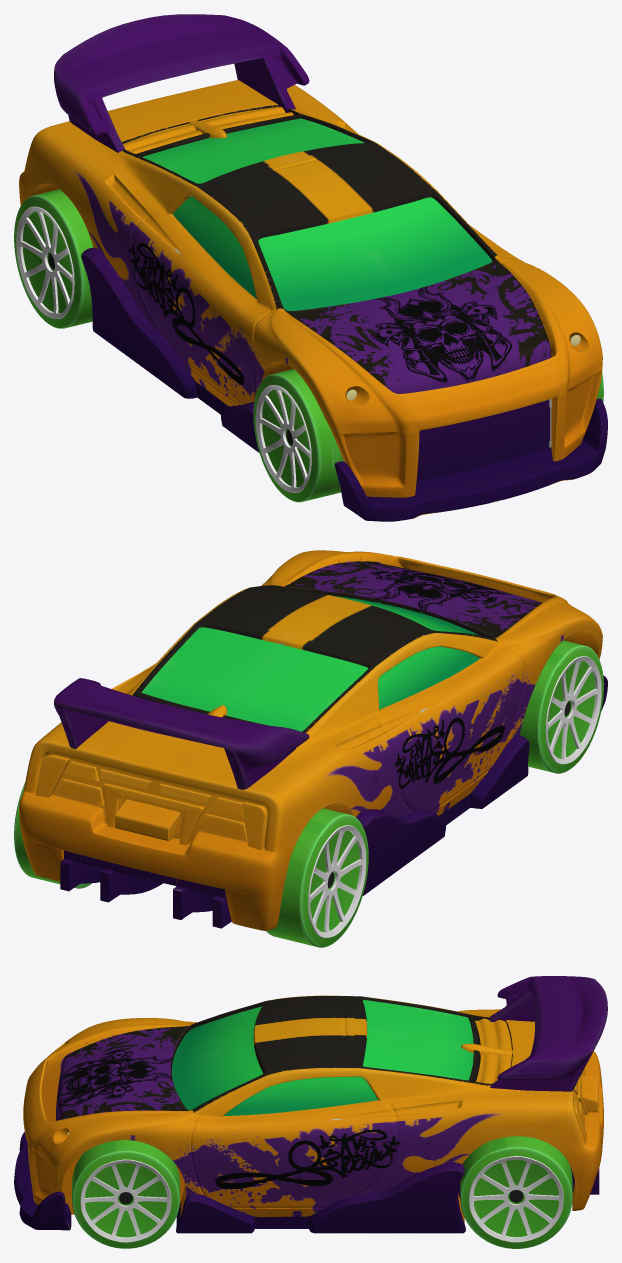
Rendered from MSTSuzuka.fbx.
The picture shows the model from 3 angles, top to bottom: view 1: azimuth 30°, elevation 25°; view 2: azimuth 150°, elevation 25°; view 3: azimuth 270°, elevation 25°; orthographic projection. The views are drawn at different scales.
Visible parts, largest first — view 1: MST Suzuka, Mesh_3673.rip.002, Mesh_3673.rip.003; view 2: MST Suzuka, Mesh_3673.rip.002, Mesh_3673.rip.003, Mesh_3673.rip.004; view 3: MST Suzuka, Mesh_3673.rip.004, Mesh_3673.rip.001.
Part boxes in pixels (x1=…): MST Suzuka: x1=19, y1=14, x2=607, y2=521; Mesh_3673.rip.002: x1=14, y1=189, x2=93, y2=328; Mesh_3673.rip.003: x1=253, y1=369, x2=343, y2=502; MST Suzuka: x1=19, y1=550, x2=607, y2=930; Mesh_3673.rip.002: x1=266, y1=808, x2=368, y2=947; Mesh_3673.rip.003: x1=519, y1=640, x2=603, y2=773; Mesh_3673.rip.004: x1=14, y1=782, x2=91, y2=888; MST Suzuka: x1=14, y1=976, x2=607, y2=1233; Mesh_3673.rip.004: x1=460, y1=1136, x2=572, y2=1248; Mesh_3673.rip.001: x1=72, y1=1140, x2=179, y2=1248.
Size of the model in its own units: 335 by 249 by 715.
